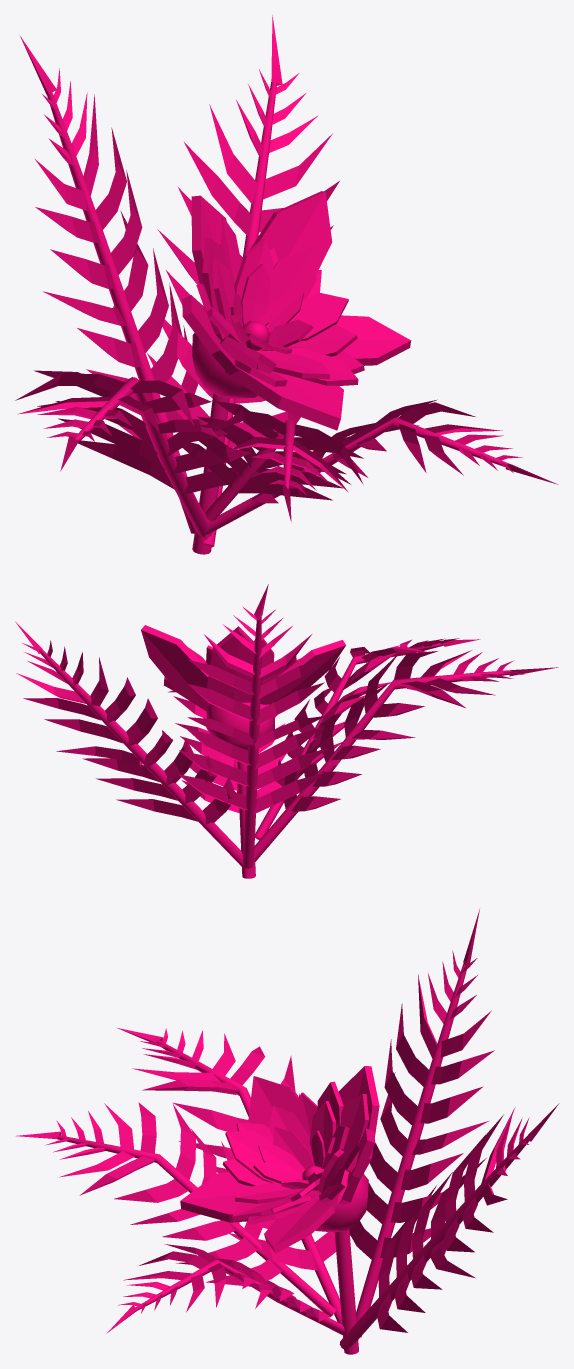
The model's file is SM_SS_Paparac_Kwietka.fbx.
The picture shows the model from 3 angles, top to bottom: view 1: azimuth 30°, elevation 25°; view 2: azimuth 150°, elevation 25°; view 3: azimuth 270°, elevation 25°; orthographic projection. The views are drawn at different scales.
Visible parts, largest first — view 1: SM_SS_Paparac_Kwietka; view 2: SM_SS_Paparac_Kwietka; view 3: SM_SS_Paparac_Kwietka.
Part boxes in pixels (left/top/right/bottom): SM_SS_Paparac_Kwietka: left=15, top=15, right=558, bottom=554; SM_SS_Paparac_Kwietka: left=15, top=584, right=558, bottom=878; SM_SS_Paparac_Kwietka: left=16, top=909, right=559, bottom=1354.
Bounding box in the file's own units: 98.16 × 110 × 89.28.
